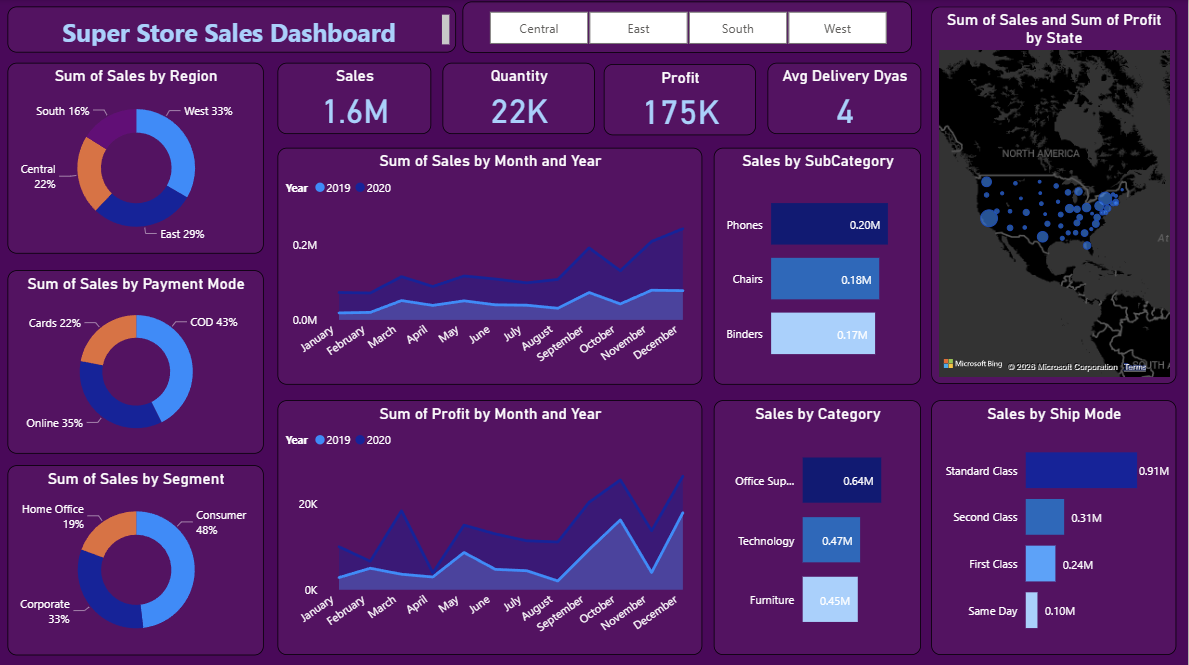

The dashboard page shown, as its layout file describes it:
{"tool":"powerbi","page":{"name":"Page 1","canvas":[1280,720],"ordinal":0},"visuals":[{"type":"clusteredBarChart","title":"Sales by Category","fields":{"Category":["SuperStore_Sales_Dataset.Category"],"Y":["Sum(SuperStore_Sales_Dataset.Sales)"]},"box":[769.4,431.8,223.3,274.4],"z":0},{"type":"clusteredBarChart","title":"Sales by SubCategory","fields":{"Category":["SuperStore_Sales_Dataset.Sub-Category"],"Y":["Sum(SuperStore_Sales_Dataset.Sales)"]},"box":[769.4,160.1,223.3,255.6],"z":1000},{"type":"clusteredBarChart","title":"Sales by Ship Mode","fields":{"Category":["SuperStore_Sales_Dataset.Ship Mode"],"Y":["Sum(SuperStore_Sales_Dataset.Sales)"]},"box":[1003.5,431.8,263.6,274.4],"z":2000},{"type":"stackedAreaChart","fields":{"Y":["Sum(SuperStore_Sales_Dataset.Sales)"],"Category":["SuperStore_Sales_Dataset.Order Date.Variation.Date Hierarchy.Month","SuperStore_Sales_Dataset.Order Date.Variation.Date Hierarchy.Day"],"Series":["SuperStore_Sales_Dataset.Order Date.Variation.Date Hierarchy.Year"]},"box":[298.6,160.1,457.3,255.6],"z":3000},{"type":"stackedAreaChart","fields":{"Category":["SuperStore_Sales_Dataset.Order Date.Variation.Date Hierarchy.Month","SuperStore_Sales_Dataset.Order Date.Variation.Date Hierarchy.Day"],"Series":["SuperStore_Sales_Dataset.Order Date.Variation.Date Hierarchy.Year"],"Y":["Sum(SuperStore_Sales_Dataset.Profit)"]},"box":[298.6,431.8,457.3,274.4],"z":4000},{"type":"map","fields":{"Category":["SuperStore_Sales_Dataset.State"],"Size":["Sum(SuperStore_Sales_Dataset.Sales)"]},"box":[1003.5,8.1,263.6,406.2],"z":5000},{"type":"donutChart","fields":{"Category":["SuperStore_Sales_Dataset.Segment"],"Y":["Sum(SuperStore_Sales_Dataset.Sales)"]},"box":[8.1,501.7,275.7,204.5],"z":6000},{"type":"donutChart","fields":{"Category":["SuperStore_Sales_Dataset.Payment Mode"],"Y":["Sum(SuperStore_Sales_Dataset.Sales)"]},"box":[8.1,291.9,275.7,197.7],"z":7000},{"type":"donutChart","fields":{"Category":["SuperStore_Sales_Dataset.Region"],"Y":["Sum(SuperStore_Sales_Dataset.Sales)"]},"box":[8.1,68.6,275.7,205.8],"z":8000},{"type":"slicer","fields":{"Values":["SuperStore_Sales_Dataset.Region"]},"box":[497.7,2.7,484.2,55.1],"z":9000},{"type":"textbox","box":[8.1,8.1,482.9,49.8],"z":10000},{"type":"card","title":"Sales","fields":{"Values":["Sum(SuperStore_Sales_Dataset.Sales)"]},"box":[298.6,68.6,165.4,76.7],"z":11000},{"type":"card","title":"Quantity","fields":{"Values":["Sum(SuperStore_Sales_Dataset.Quantity)"]},"box":[476.2,68.6,164.1,76.7],"z":12000},{"type":"card","title":"Profit","fields":{"Values":["Sum(SuperStore_Sales_Dataset.Profit)"]},"box":[651,69.9,164.1,76.7],"z":13000},{"type":"card","title":"Avg Delivery Dyas","fields":{"Values":["Avg(SuperStore_Sales_Dataset.AvgDeliver)"]},"box":[827.2,68.6,165.4,76.7],"z":14000}]}

Visuals, with their boxes in screenshot pixels (x1, y1, x2, y2), scaled from the page's 1280x720 canvas onto the 1189x665 screenshot:
"Sales by Category" clusteredBarChart: l=715, t=399, r=922, b=652
"Sales by SubCategory" clusteredBarChart: l=715, t=148, r=922, b=384
"Sales by Ship Mode" clusteredBarChart: l=932, t=399, r=1177, b=652
stackedAreaChart - Sum(SuperStore_Sales_Dataset.Sales) x SuperStore_Sales_Dataset.Order Date.Variation.Date Hierarchy.Month: l=277, t=148, r=702, b=384
stackedAreaChart - SuperStore_Sales_Dataset.Order Date.Variation.Date Hierarchy.Month x SuperStore_Sales_Dataset.Order Date.Variation.Date Hierarchy.Day: l=277, t=399, r=702, b=652
map - SuperStore_Sales_Dataset.State x Sum(SuperStore_Sales_Dataset.Sales): l=932, t=7, r=1177, b=383
donutChart - SuperStore_Sales_Dataset.Segment x Sum(SuperStore_Sales_Dataset.Sales): l=8, t=463, r=264, b=652
donutChart - SuperStore_Sales_Dataset.Payment Mode x Sum(SuperStore_Sales_Dataset.Sales): l=8, t=270, r=264, b=452
donutChart - SuperStore_Sales_Dataset.Region x Sum(SuperStore_Sales_Dataset.Sales): l=8, t=63, r=264, b=253
slicer - SuperStore_Sales_Dataset.Region: l=462, t=2, r=912, b=53
textbox: l=8, t=7, r=456, b=53
"Sales" card: l=277, t=63, r=431, b=134
"Quantity" card: l=442, t=63, r=595, b=134
"Profit" card: l=605, t=65, r=757, b=135
"Avg Delivery Dyas" card: l=768, t=63, r=922, b=134
